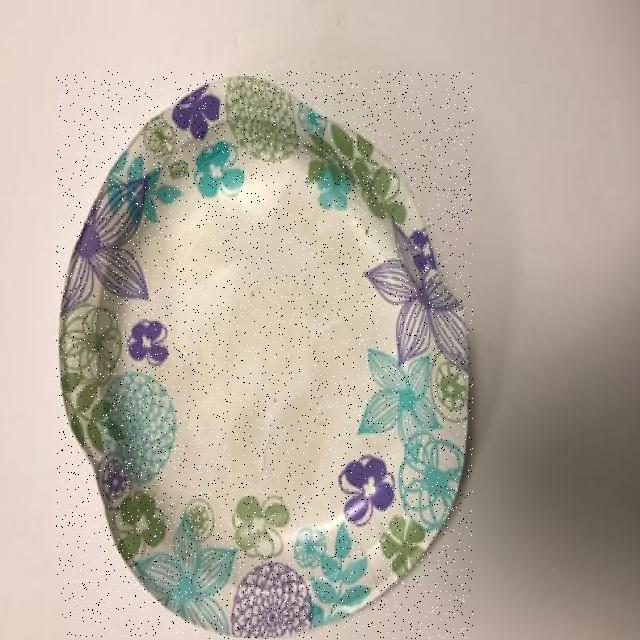paper: (57, 71, 473, 638)
